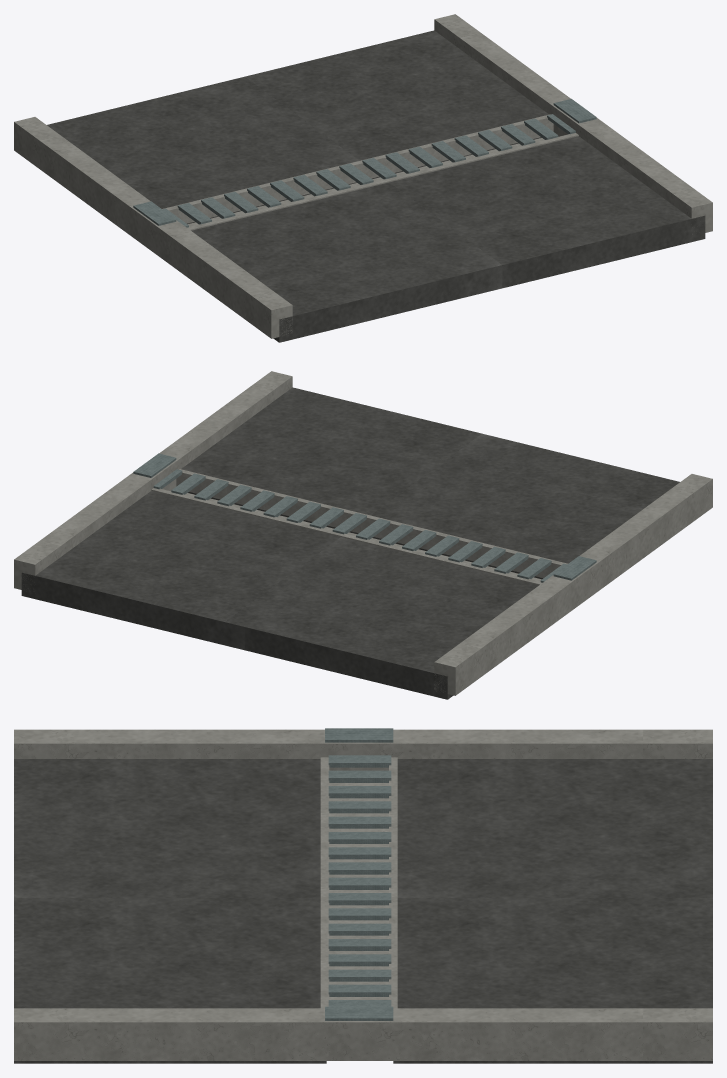
The model's file is PZ_Alley_Lane_Drain_4M.glb.
3 views of the same model, one above another, from view 1: azimuth 30°, elevation 25°; view 2: azimuth 150°, elevation 25°; view 3: azimuth 270°, elevation 25° (orthographic). The views are drawn at different scales.
Parts seen in each view (by area): view 1: B_Roadbed_1, B_Roadbed_2, B_W_Curb, B_E_Curb, B_Drain_Ledge_217, B_Drain_Ledge_178, B_W_ChannelRim, B_E_ChannelRim, B_Drain_Trough_Bottom; view 2: B_Roadbed_2, B_Roadbed_1, B_W_Curb, B_E_Curb, B_Drain_Ledge_178, B_Drain_Ledge_217, B_W_ChannelRim, B_E_ChannelRim; view 3: B_Roadbed_2, B_Roadbed_1, B_E_Curb, B_W_Curb, B_Drain_Trough_Bottom, B_Drain_Ledge_178, B_Drain_Ledge_217, B_W_ChannelRim, B_E_ChannelRim, B_Grate_Bar_00, B_Grate_Bar_01, B_Grate_Bar_03 (+13 smaller).
Boxes of the visible parts, x1,y1,x2,y2 form: B_Roadbed_1: (191,136,705,342); B_Roadbed_2: (47,30,548,224); B_W_Curb: (14,117,292,338); B_E_Curb: (434,14,712,234); B_Drain_Ledge_217: (162,114,553,223); B_Drain_Ledge_178: (187,133,578,230); B_W_ChannelRim: (133,201,176,225); B_E_ChannelRim: (553,99,596,123); B_Drain_Trough_Bottom: (188,138,544,226); B_Roadbed_2: (21,491,538,699); B_Roadbed_1: (181,387,679,579); B_W_Curb: (434,474,712,695); B_E_Curb: (14,371,292,589); B_Drain_Ledge_178: (176,469,567,578); B_Drain_Ledge_217: (151,488,541,585); B_W_ChannelRim: (553,556,596,580); B_E_ChannelRim: (133,453,176,477); B_Roadbed_2: (393,759,712,1063); B_Roadbed_1: (14,759,326,1063); B_E_Curb: (14,1008,712,1060); B_W_Curb: (14,729,712,770); B_Drain_Trough_Bottom: (329,783,388,999); B_Drain_Ledge_178: (320,757,329,1008); B_Drain_Ledge_217: (389,757,397,1008); B_W_ChannelRim: (325,728,393,742); B_E_ChannelRim: (325,1006,393,1020); B_Grate_Bar_00: (328,755,391,767); B_Grate_Bar_01: (328,770,391,782); B_Grate_Bar_03: (328,801,391,813).
Bounding box in the file's own units: 3.96 × 0.312 × 4.
Materials: 3 (3 with a texture image).
